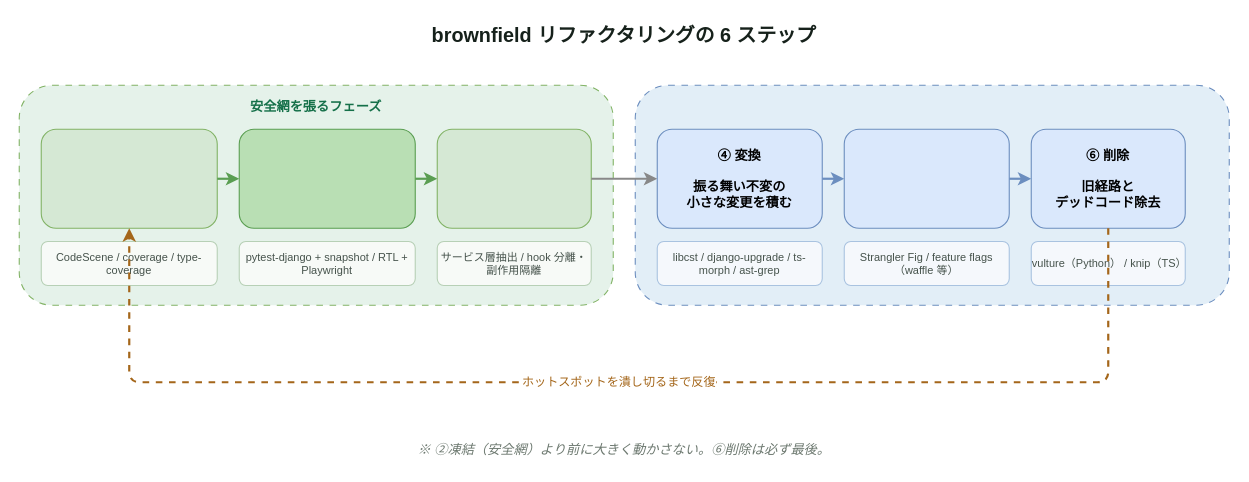
The diagram is 1249 pixels wide and 482 high, and some of its shapes have lost their labels. Each missing label, with the box of its shape:
① 計測 ホットスポット特定 （変更頻度 × 複雑度）: (40, 128, 217, 228)
② 凍結 特性テストで 現状挙動を固定: (238, 128, 415, 228)
③ 継ぎ目 テスト可能な 接合点を作る: (436, 128, 591, 228)
⑤ 段階置換 新旧を並行稼働し 機能単位で差替え: (843, 128, 1009, 228)
動かすフェーズ: (634, 84, 1229, 305)
